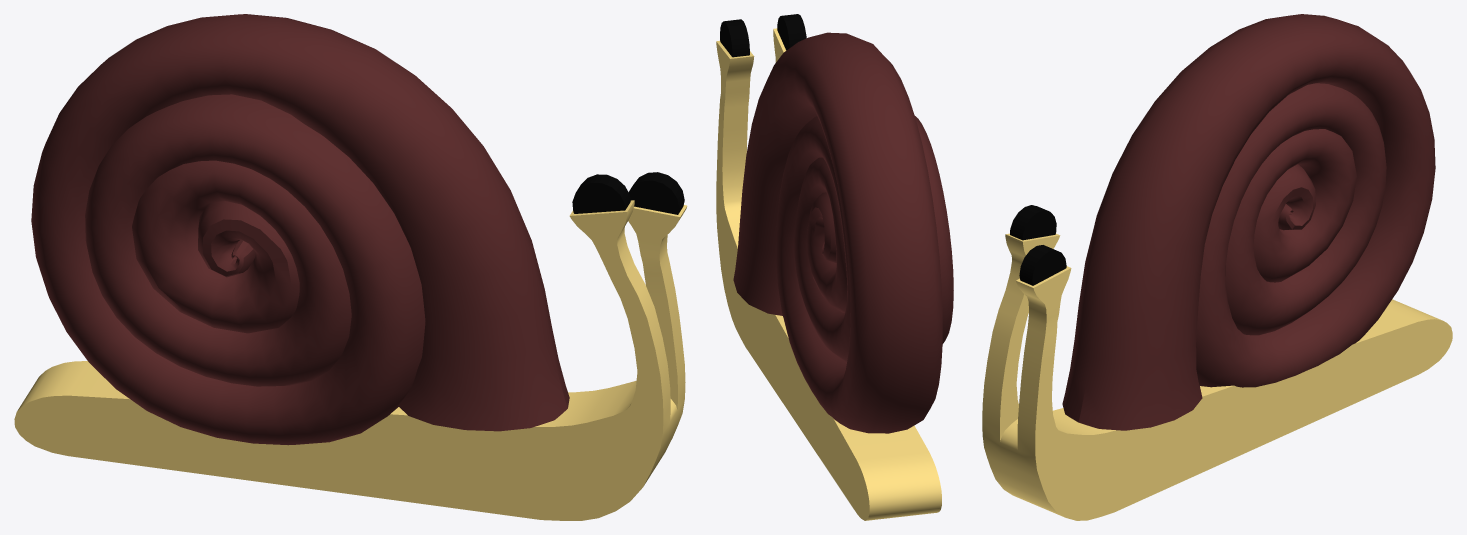
The model's file is snail.glb.
3 views of the same model, side by side, from view 1: azimuth 30°, elevation 25°; view 2: azimuth 150°, elevation 25°; view 3: azimuth 270°, elevation 25° (orthographic). The views are drawn at different scales.
Visible parts, largest first — view 1: Circle.1990; view 2: Circle.1990; view 3: Circle.1990.
Part boxes in pixels (<box>): Circle.1990: <box>14,14,687,520</box>; Circle.1990: <box>716,14,953,520</box>; Circle.1990: <box>982,14,1452,520</box>.
Bounding box in the file's own units: 2.02 × 1.86 × 2.01.
Materials: 1 (1 with a texture image).
